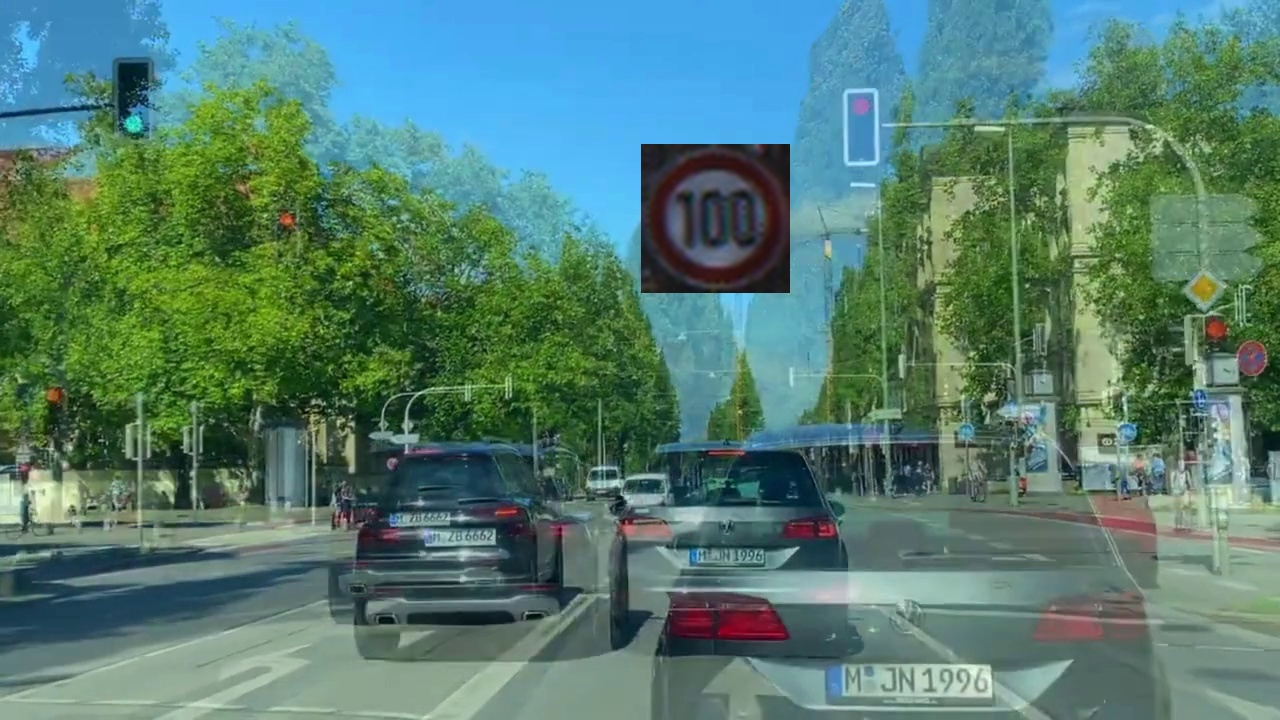Speed 100: (641, 144, 790, 293)
